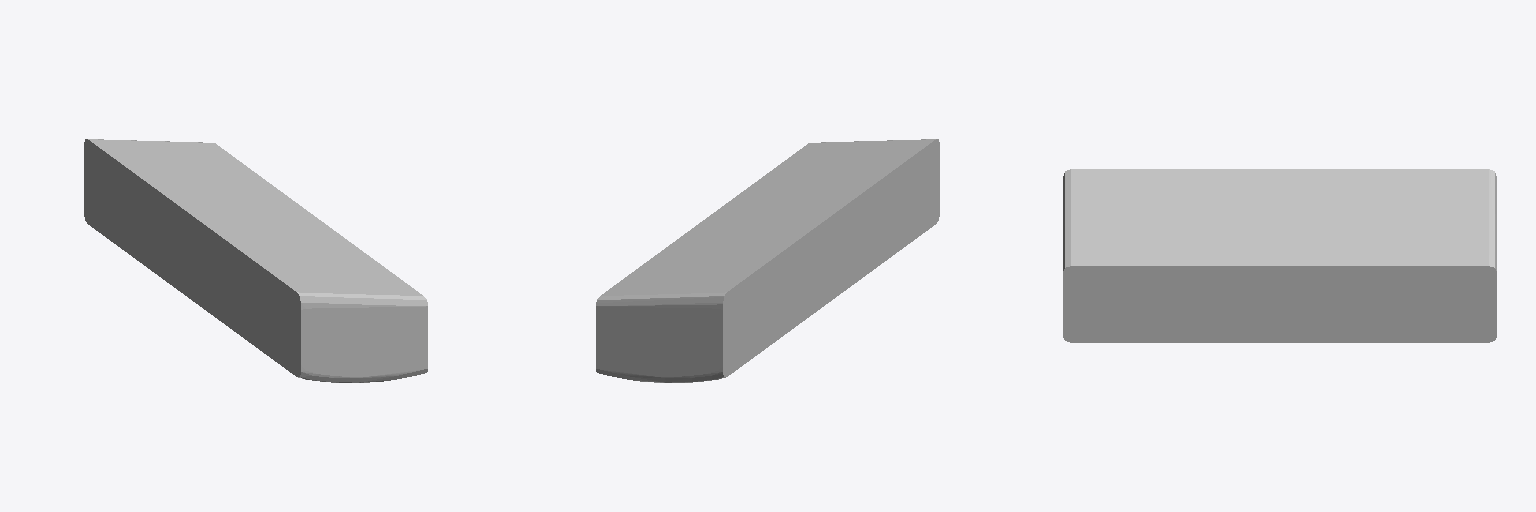
File: Cylinder_with_Hole_collision_6.obj
3 renders of one model, left to right at view 1: azimuth 30°, elevation 25°; view 2: azimuth 150°, elevation 25°; view 3: azimuth 270°, elevation 25°, orthographic.
Bounding box in the file's own units: 48.19 × 40.35 × 143.